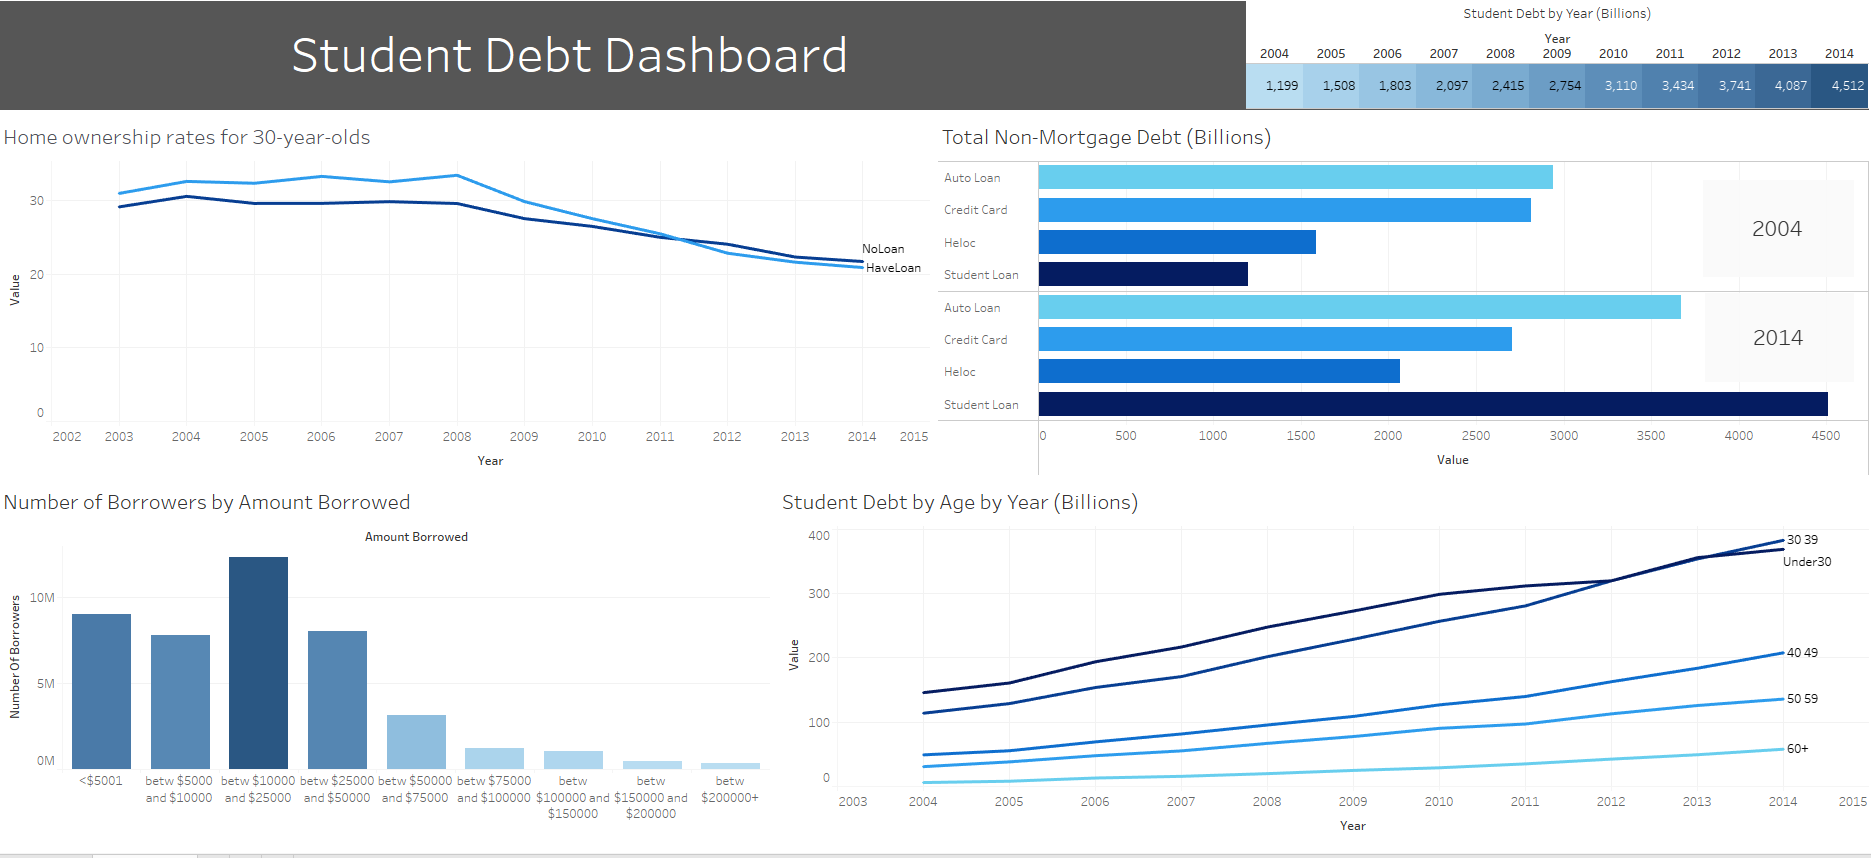

The page's visual inventory and layout, read from the dashboard file:
{"tool":"tableau","page":{"name":"Dashboard 1","canvas":[1000,1000],"units":"permille","ordinal":0},"visuals":[{"type":"image","param":"C:/Users/Owner/Downloads/grey.jpg","box":[4.7,9.3,990.6,135.2]},{"type":"worksheet","title":"Sheet 4","mark":"Square","cols":["Time"],"box":[664.7,12.7,328.9,126.2]},{"type":"text","box":[159.2,39.4,332.4,69.4]},{"type":"worksheet","title":"Sheet 3","mark":"Automatic","cols":["Year"],"box":[4.7,144.5,495.3,423.1]},{"type":"worksheet","title":"Sheet 5","mark":"Bar","rows":["Time"],"box":[500,144.5,495.3,423.1]},{"type":"worksheet","title":"Sheet 2","mark":"Automatic","rows":["NumberOfBorrowers"],"cols":["Balance2014"],"box":[4.7,567.5,495.5,423.2]},{"type":"worksheet","title":"Sheet 1","mark":"Automatic","cols":["Year"],"box":[500.2,567.5,495.1,423.2]}]}

Visuals, with their boxes on the dashboard's canvas, which has no fixed pixel size, in thousandths of its width and height (x1, y1, x2, y2). These are canvas units, not pixel positions in the 1871x858 screenshot, which may show the page scaled, cropped or inside an application window:
image: 5:9:995:144
"Sheet 4" worksheet (Square marks): 665:13:994:139
text: 159:39:492:109
"Sheet 3" worksheet: 5:144:500:568
"Sheet 5" worksheet (Bar marks): 500:144:995:568
"Sheet 2" worksheet: 5:568:500:991
"Sheet 1" worksheet: 500:568:995:991
